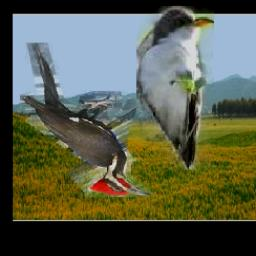Cuckoo: (136, 7, 214, 171)
Woodpecker: (21, 44, 154, 198)
